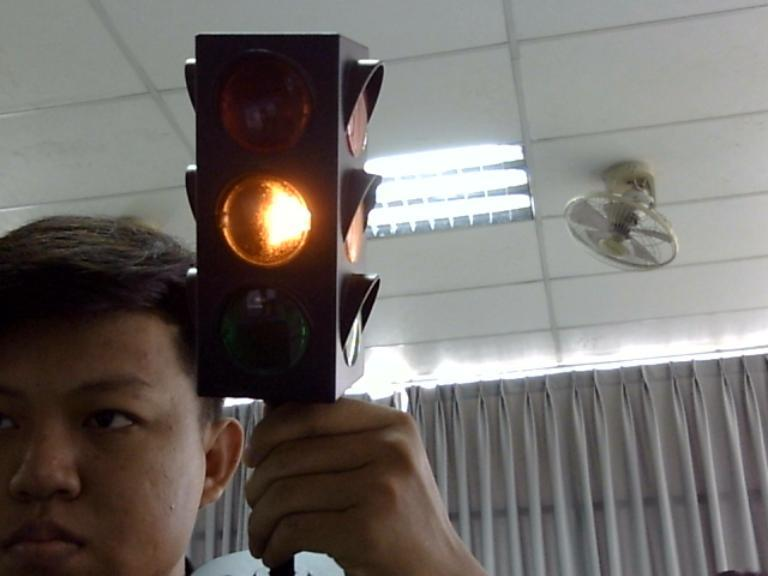yellow: (207, 161, 328, 278)
